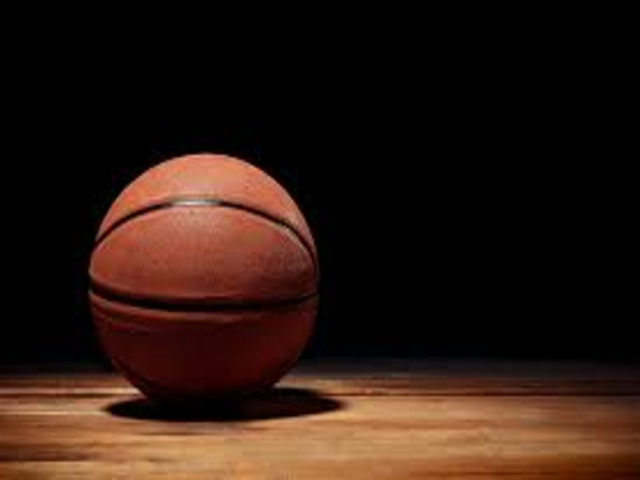Bola: (86, 151, 324, 423)
